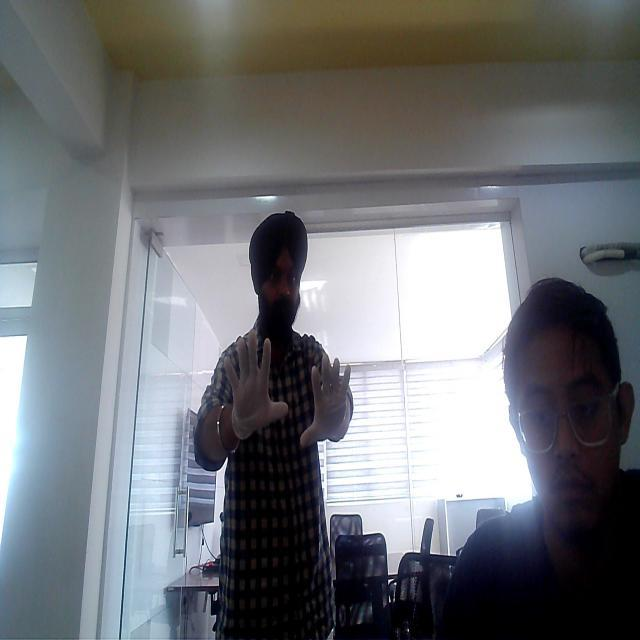with_gloves: (220, 318, 287, 439), (298, 352, 352, 448)
